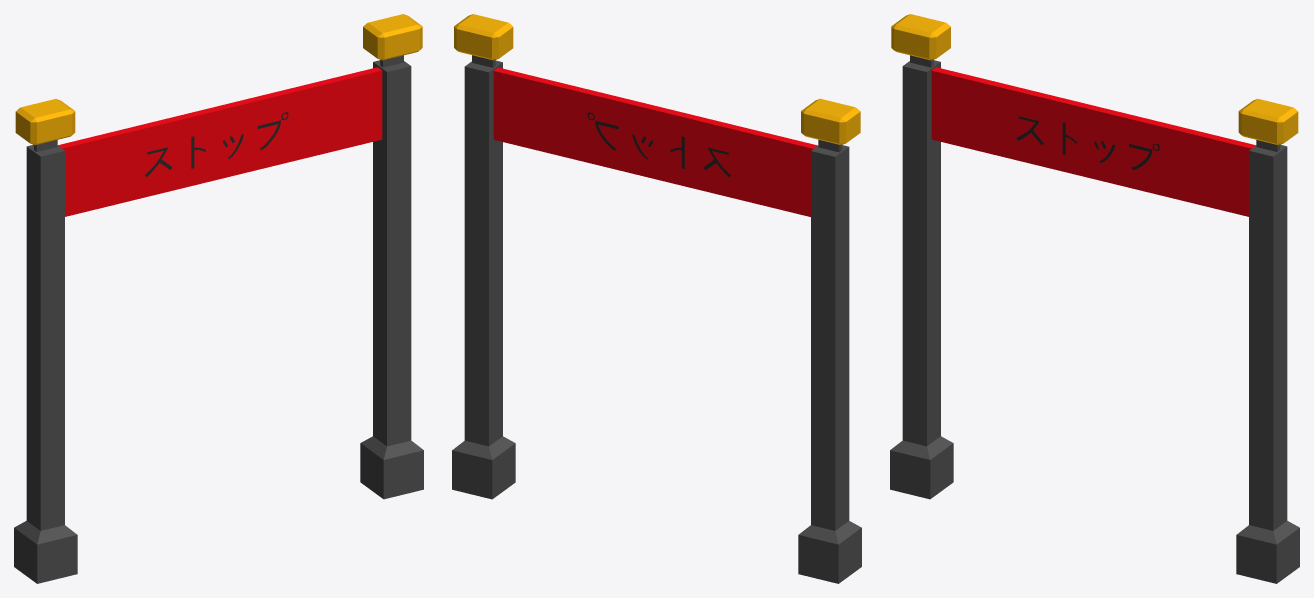
The model's file is StopSign2.fbx.
3 renders of one model, left to right at view 1: azimuth 30°, elevation 25°; view 2: azimuth 150°, elevation 25°; view 3: azimuth 330°, elevation 25°, orthographic.
Visible parts, largest first — view 1: Cube.003; view 2: Cube.003; view 3: Cube.003.
Part boxes in pixels (x1,y1,x2,y2): Cube.003: (14,14,423,583); Cube.003: (452,14,861,583); Cube.003: (890,14,1299,583).
Bounding box in the file's own units: 167 × 188 × 17.14.
